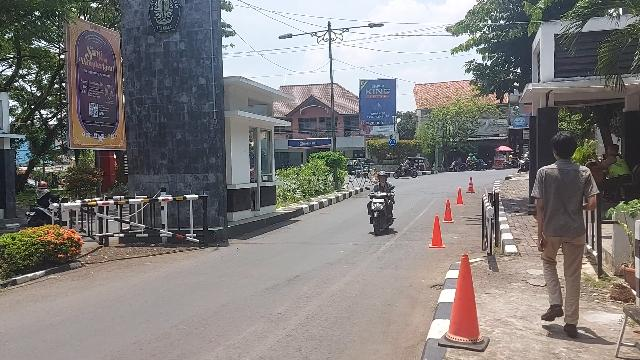helm: (378, 172, 388, 183), (470, 155, 474, 158), (474, 154, 478, 157), (512, 154, 515, 157)
motor: (368, 193, 396, 237), (395, 167, 419, 180), (467, 161, 490, 172), (450, 162, 466, 172), (504, 161, 520, 170)
non-helm: (406, 158, 409, 161)
